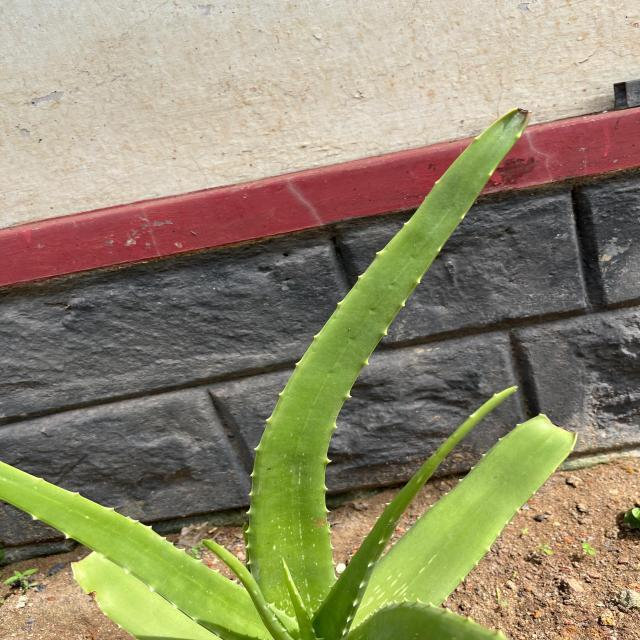Aloe vera: (244, 105, 539, 602)
